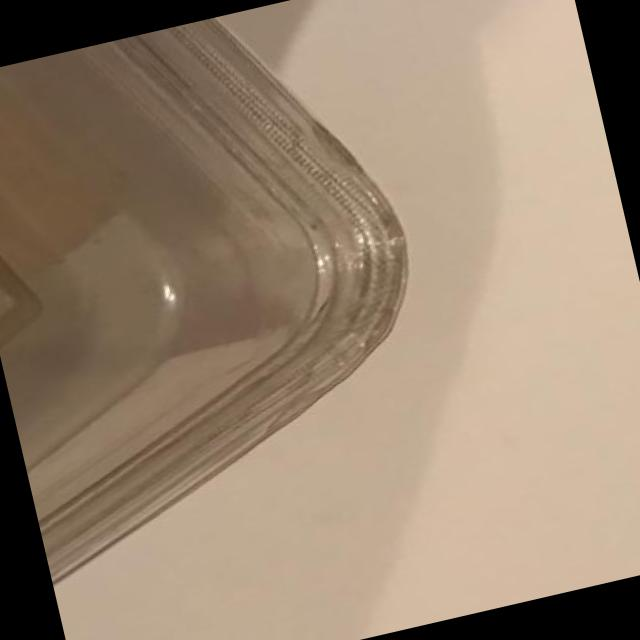Clamshell: (0, 0, 478, 596)
